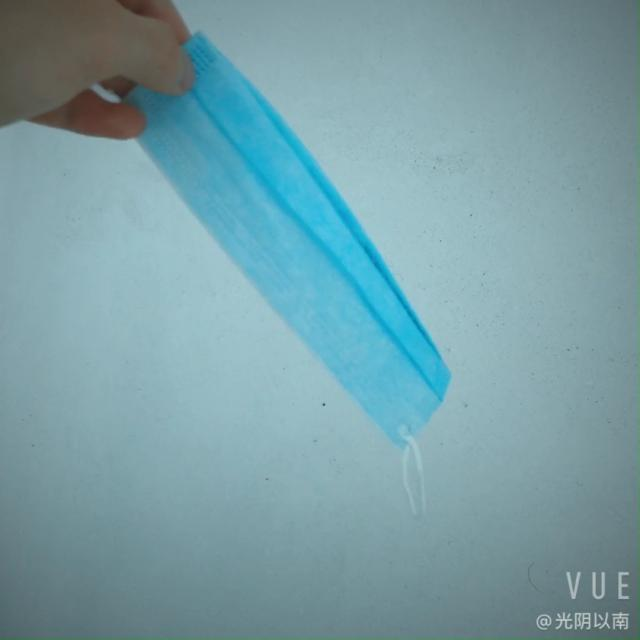face mask: (125, 20, 465, 449)
